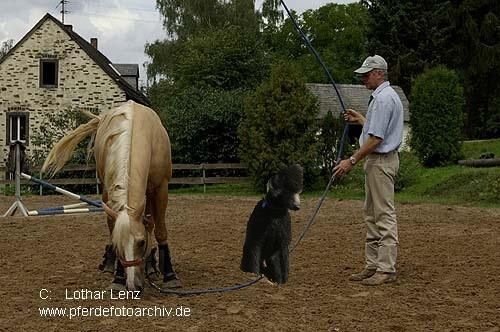tampered: (240, 164, 303, 285)
